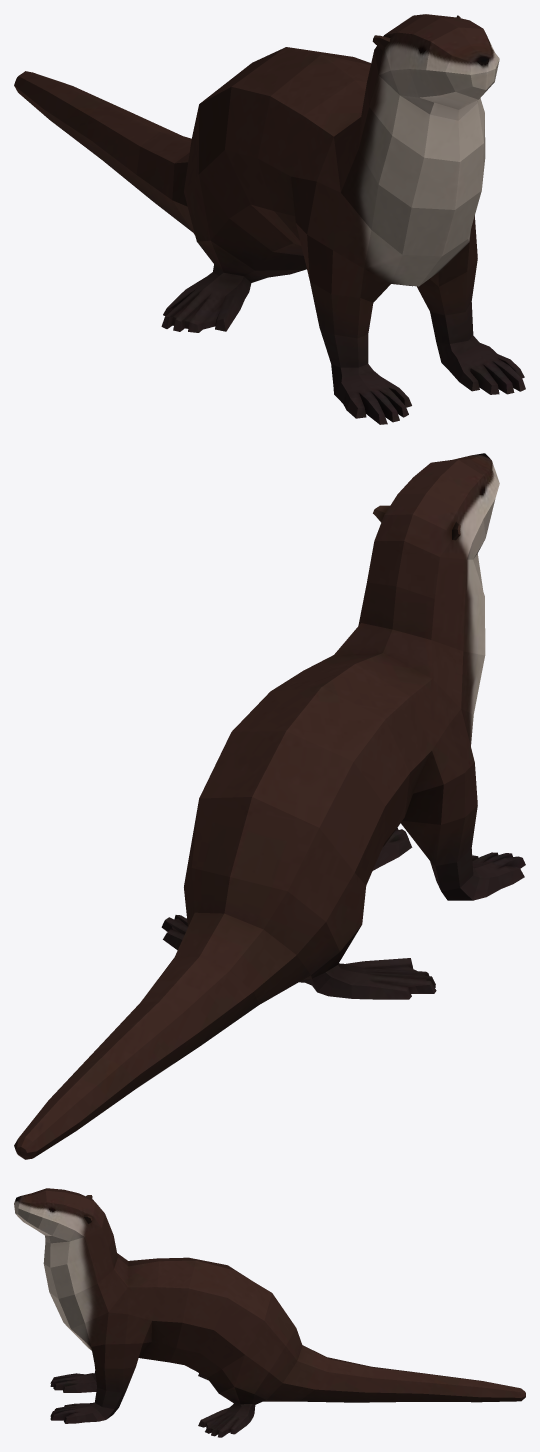
The model's file is lobope.glb.
3 renders of one model, top to bottom at view 1: azimuth 30°, elevation 25°; view 2: azimuth 150°, elevation 25°; view 3: azimuth 270°, elevation 25°, orthographic. The views are drawn at different scales.
Visible parts, largest first — view 1: RiverOtter_Mesh; view 2: RiverOtter_Mesh; view 3: RiverOtter_Mesh.
Part boxes in pixels (x1,y1,x2,y2): RiverOtter_Mesh: (14, 14, 525, 424); RiverOtter_Mesh: (14, 453, 525, 1159); RiverOtter_Mesh: (14, 1188, 525, 1437).
Bounding box in the file's own units: 3.24 × 4.36 × 9.59.
Materials: 1 (1 with a texture image).
